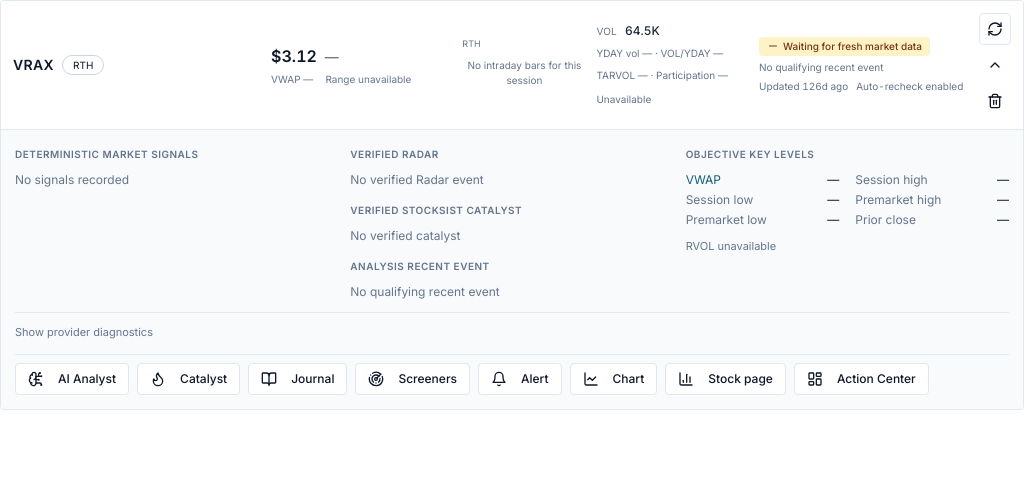
Test: WatchlistRowV2 data_unavailable contract › surfaces SNAPSHOT_STALE primary and retry copy inside expanded diagnostics
Earlier steps of the test are not shown.
Click the button "Show provider diagnostics": (84, 332) [15,322,153,342]
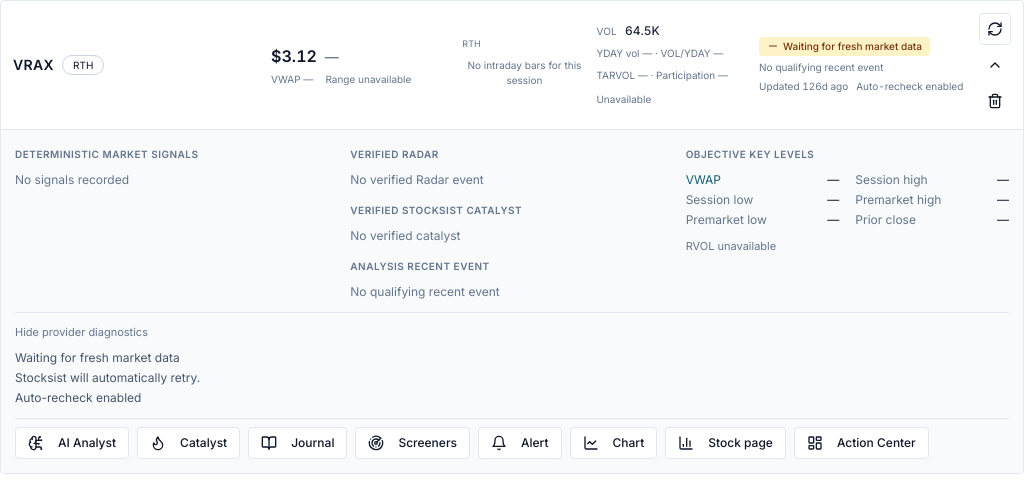
Expected: the text "Waiting for fresh market data" is shown, [759,36,930,56]
Now the text "Stocksist will automatically retry" is shown, box [15,370,200,385]
